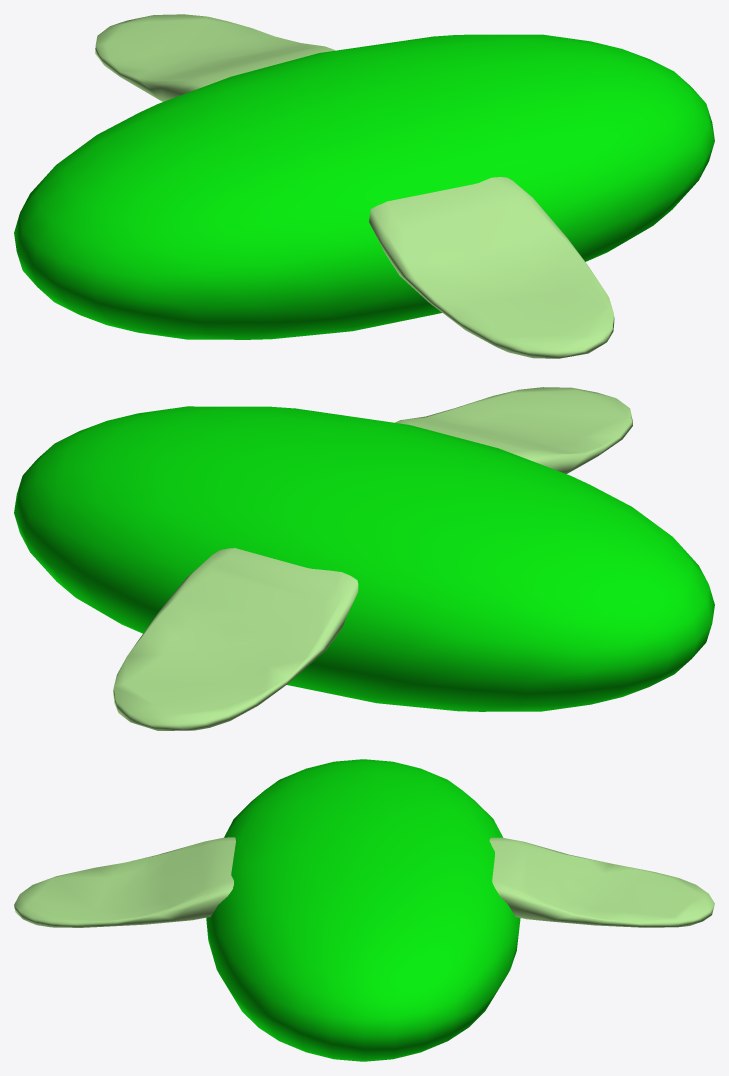
The model's file is spaceship.glb.
3 views of the same model, one above another, from view 1: azimuth 30°, elevation 25°; view 2: azimuth 150°, elevation 25°; view 3: azimuth 270°, elevation 25° (orthographic). The views are drawn at different scales.
Visible parts, largest first — view 1: Cube.001; view 2: Cube.001; view 3: Cube.001.
Boxes of the visible parts, left/top/right/bottom form: Cube.001: left=14, top=14, right=714, bottom=358; Cube.001: left=14, top=387, right=714, bottom=730; Cube.001: left=14, top=759, right=714, bottom=1061.
Size of the model in its own units: 15.97 by 4.6 by 18.77.
